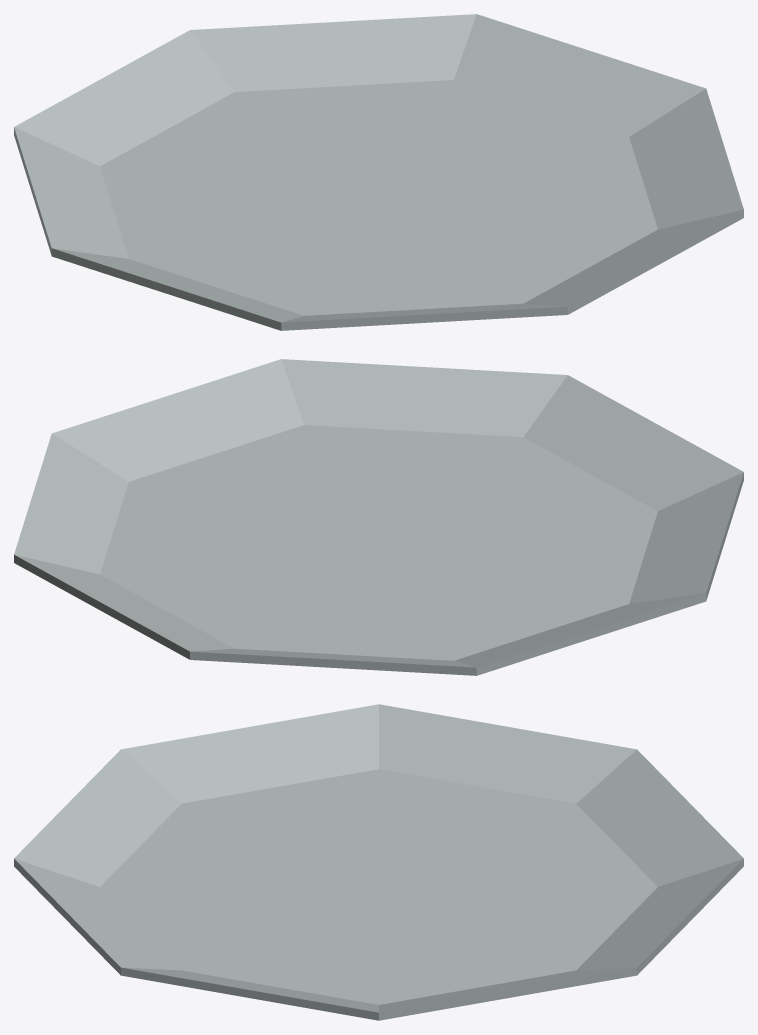
The model's file is plate4.glb.
The picture shows the model from 3 angles, top to bottom: view 1: azimuth 30°, elevation 25°; view 2: azimuth 150°, elevation 25°; view 3: azimuth 270°, elevation 25°; orthographic projection. The views are drawn at different scales.
Visible parts, largest first — view 1: plate4; view 2: plate4; view 3: plate4.
Boxes of the visible parts, x1=… form: plate4: x1=14, y1=14, x2=743, y2=330; plate4: x1=14, y1=359, x2=743, y2=675; plate4: x1=14, y1=704, x2=743, y2=1020.
Size of the model in its own units: 0.3419 by 0.0263 by 0.3419.
1 material, 1 textured.
